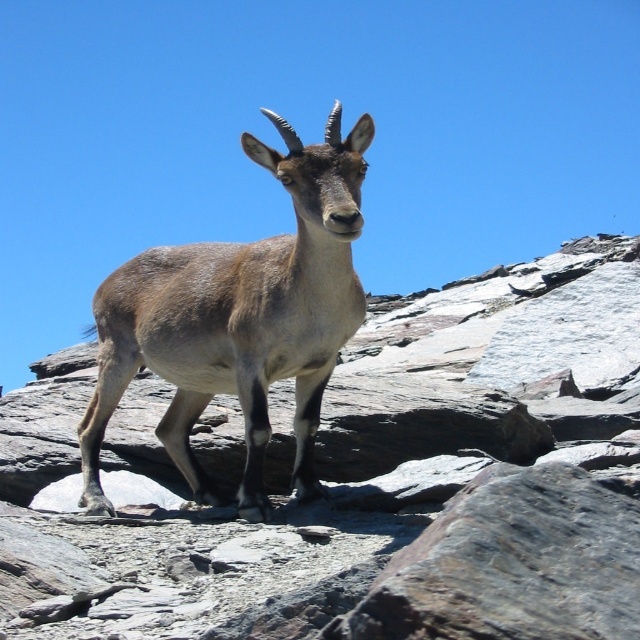Deer: (77, 99, 375, 520)
